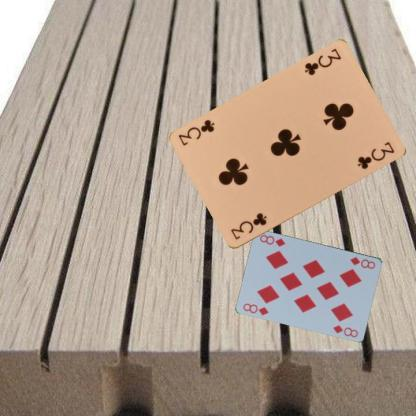3c: (228, 210, 268, 242), (302, 46, 342, 78)
8d: (348, 254, 377, 271), (241, 300, 270, 316)
